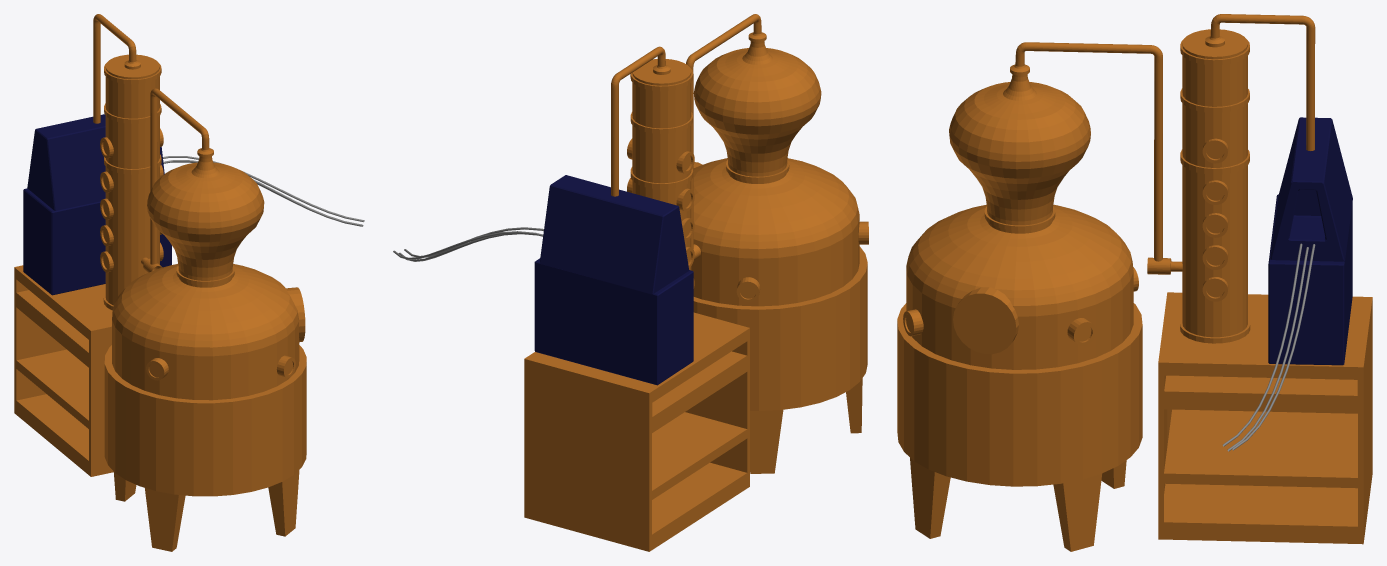
Rendered from fabrique_potion.fbx.
3 renders of one model, left to right at view 1: azimuth 30°, elevation 25°; view 2: azimuth 150°, elevation 25°; view 3: azimuth 270°, elevation 25°, orthographic. The views are drawn at different scales.
Parts seen in each view (by area): view 1: Distillerie, Sortie potion, BezierCurve; view 2: Distillerie, Sortie potion, BezierCurve; view 3: Distillerie, Sortie potion, BezierCurve.
Boxes of the visible parts, x1,y1,x2,y2 form: Distillerie: (14,14,306,551); Sortie potion: (23,114,171,295); BezierCurve: (163,156,364,226); Distillerie: (524,14,868,551); Sortie potion: (534,175,693,385); BezierCurve: (393,227,543,261); Distillerie: (897,14,1372,551); Sortie potion: (1268,117,1352,365); BezierCurve: (1222,243,1315,451).
Size of the model in its own units: 309 by 363 by 314.
